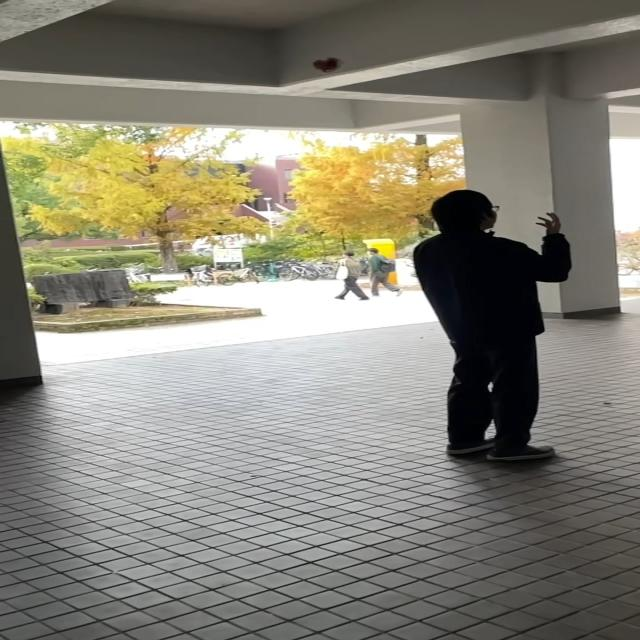paper: (314, 57, 342, 74)
